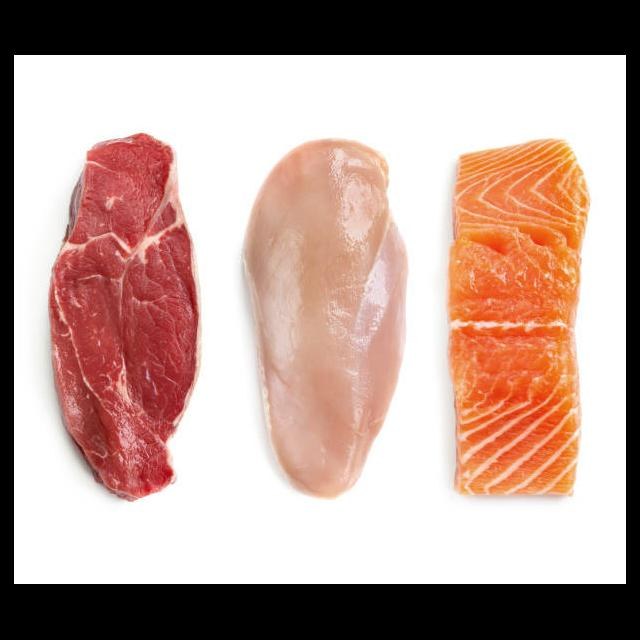beef: (45, 124, 202, 503)
chicken: (238, 132, 410, 501)
